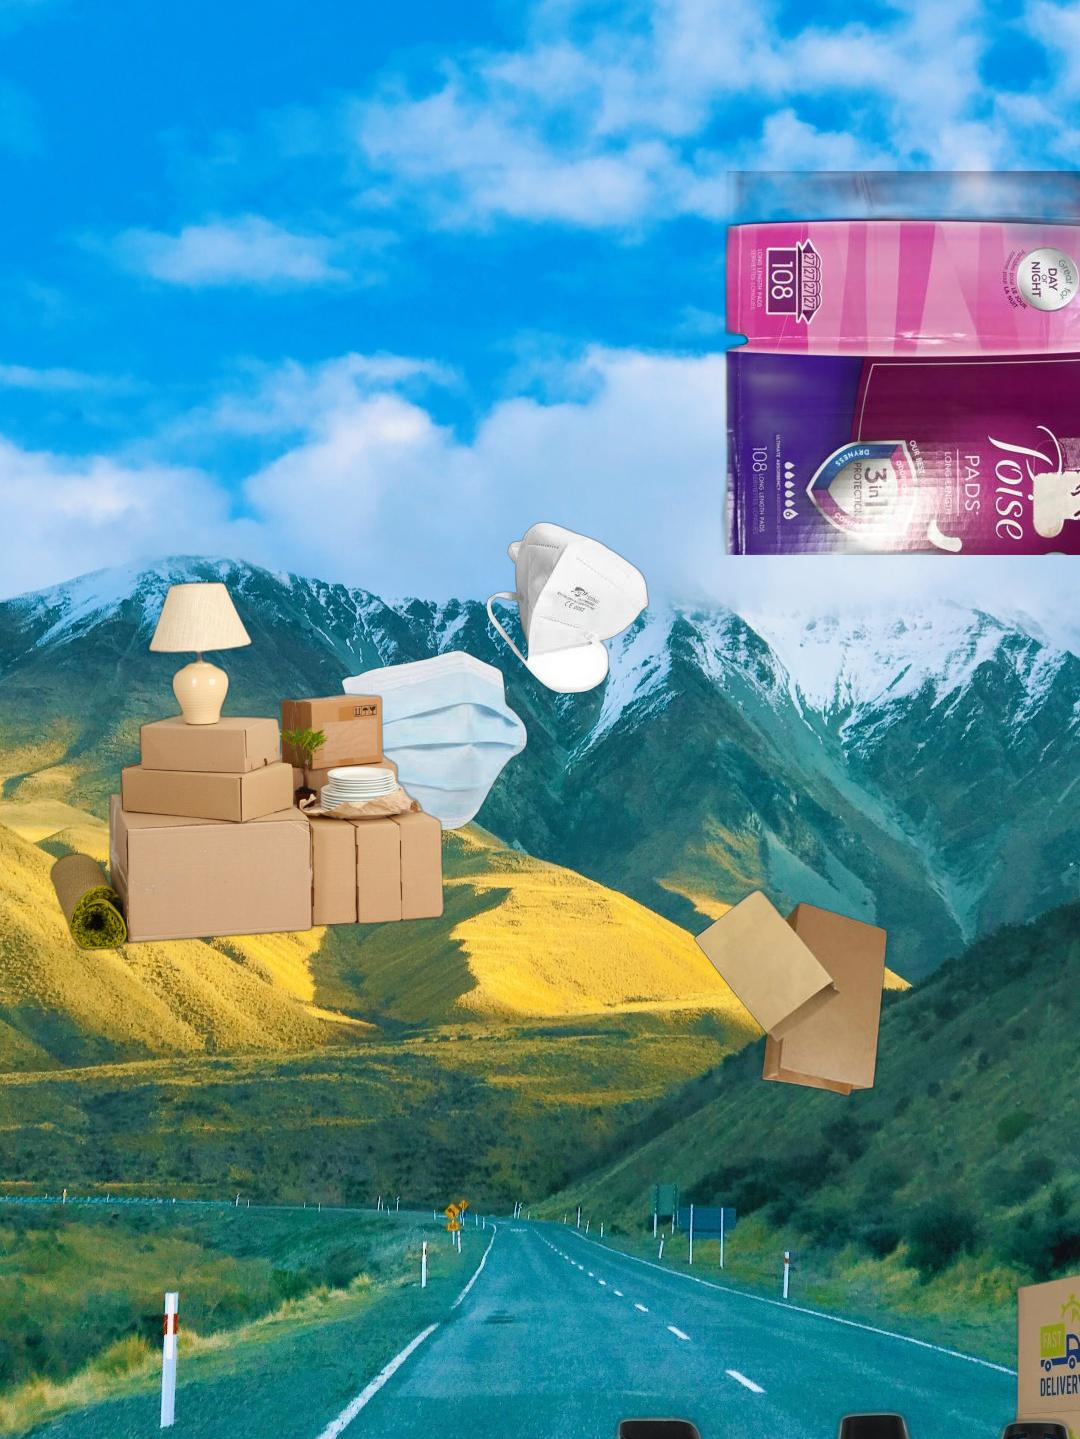paper-bag: (693, 886, 891, 1099)
penholder: (577, 1400, 1080, 1439)
trash: (309, 647, 530, 833), (484, 519, 650, 696)
trashbox-cardboard: (655, 171, 1080, 555), (47, 576, 447, 955), (1003, 1238, 1080, 1439)
